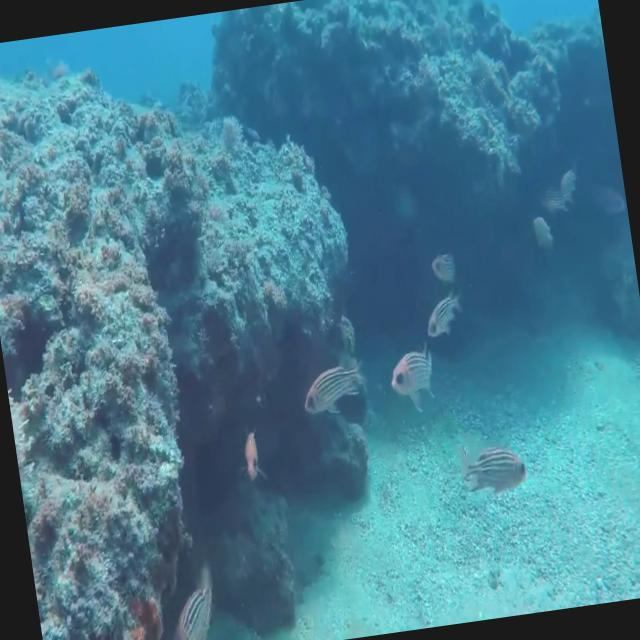Asker Baligi: (382, 343, 454, 409), (297, 357, 368, 419), (460, 439, 530, 497)
